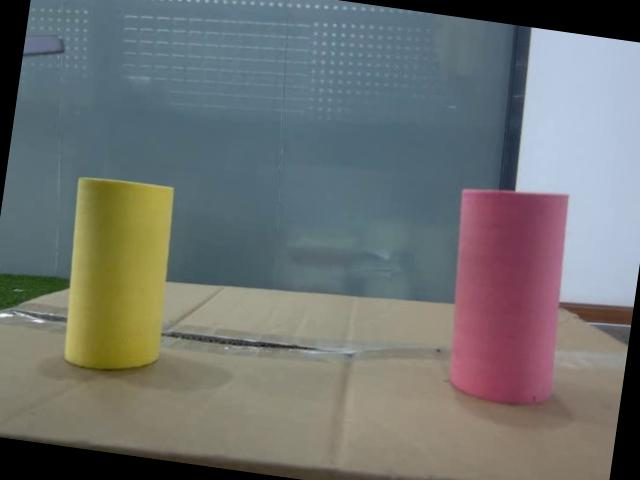red_cylinder: (436, 180, 576, 406)
yellow_cylinder: (52, 172, 185, 378)
